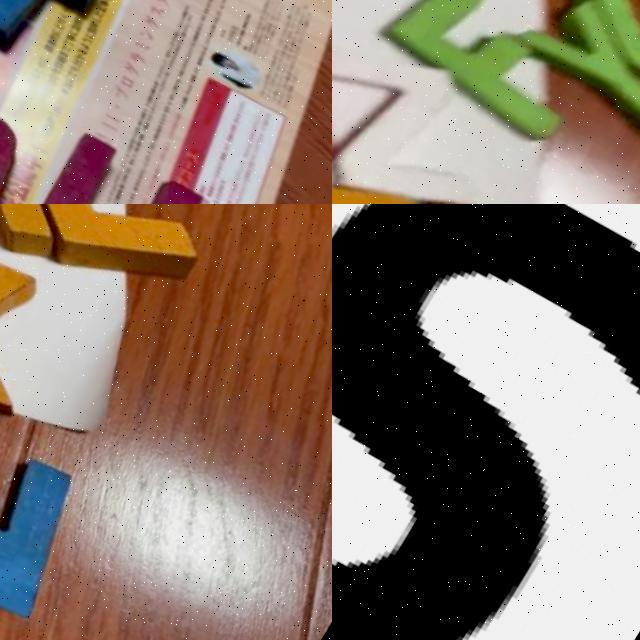C: (550, 0, 640, 118)
F: (375, 0, 602, 167)
L: (0, 204, 232, 326)
N: (0, 393, 90, 628)
R: (0, 204, 102, 306)
S: (332, 204, 640, 640)
T: (0, 0, 103, 74)
U: (29, 132, 211, 204)
X: (0, 204, 76, 440)
Y: (509, 0, 640, 179)
Z: (332, 21, 520, 204)
